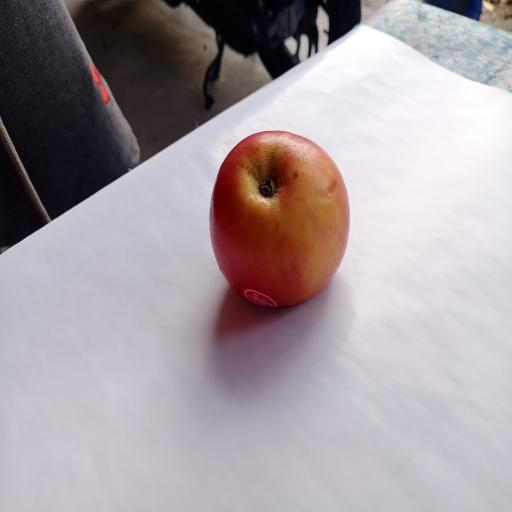apple-ripe: (204, 120, 353, 324)
